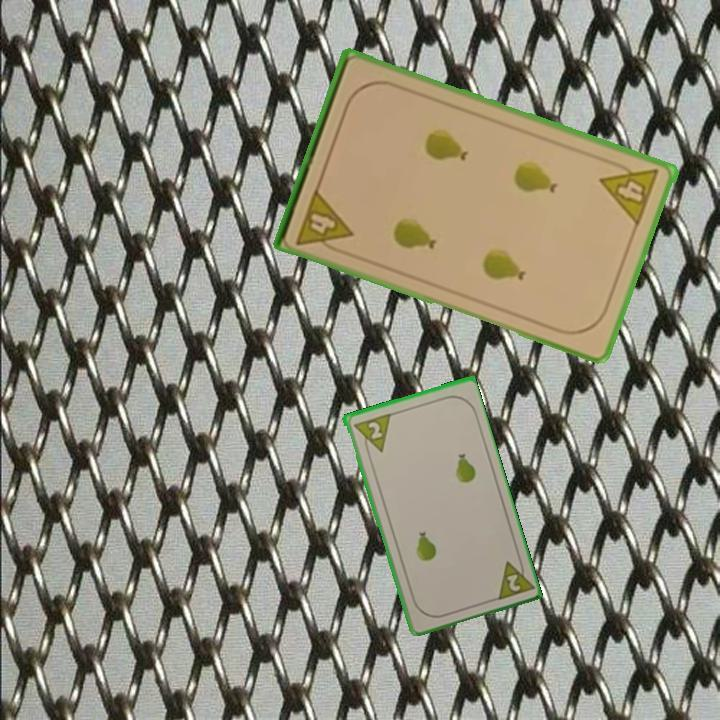2p: (491, 553, 535, 603), (364, 418, 385, 442)
4p: (597, 155, 662, 229), (292, 185, 356, 257)
